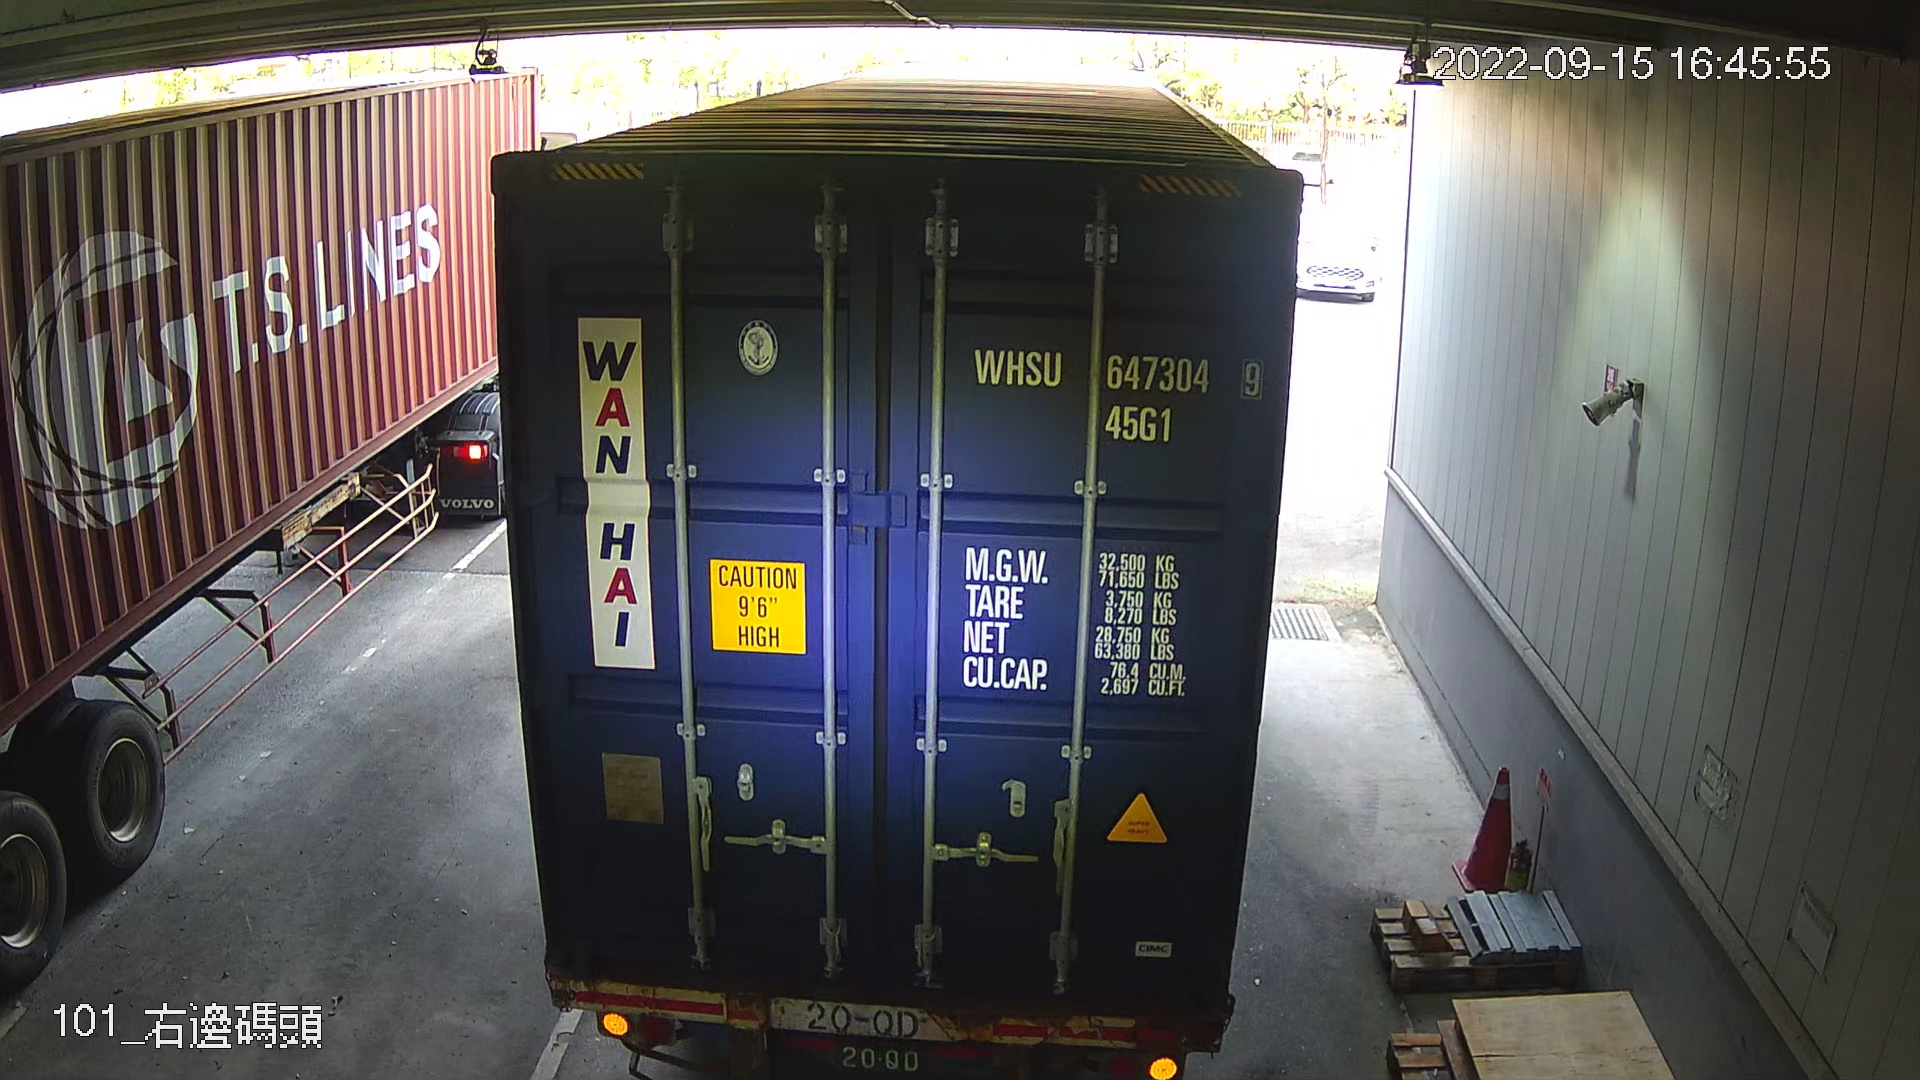container: (957, 335, 1273, 447)
